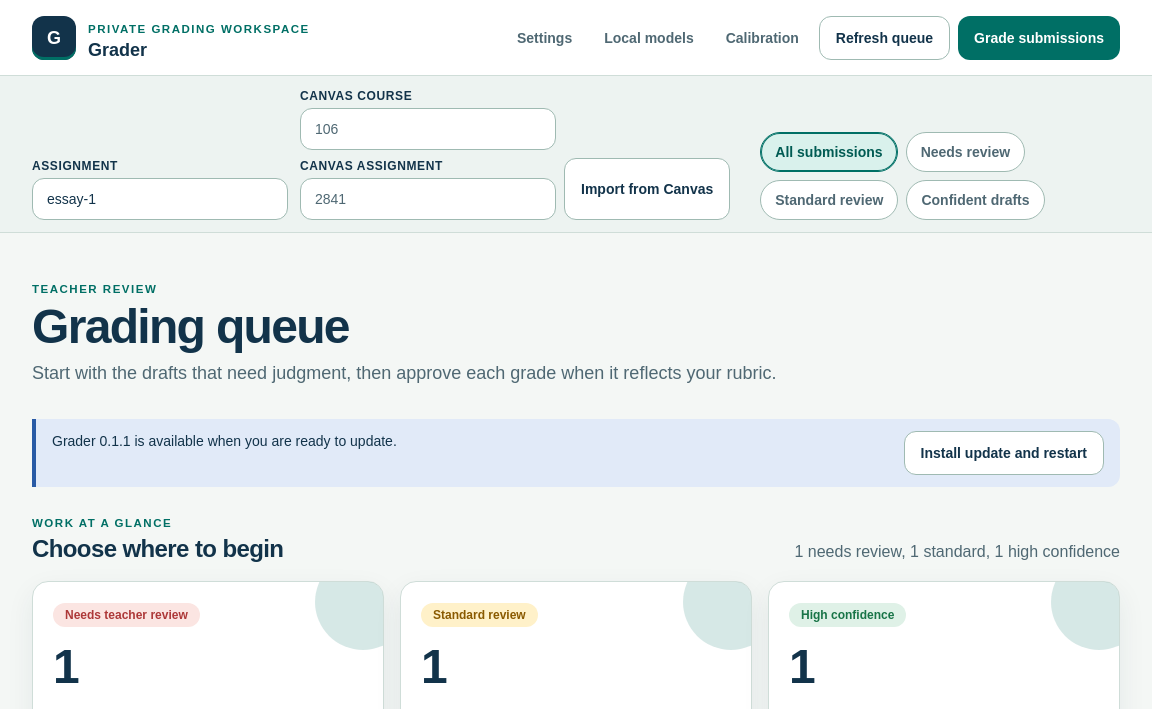
Test: QueueScreen › offers a keyboard reachable install action when the signed updater finds a new version
The image size is (1152, 709).
Click the button "Install update and restart".
click(1004, 453)  # box [904,431,1104,475]
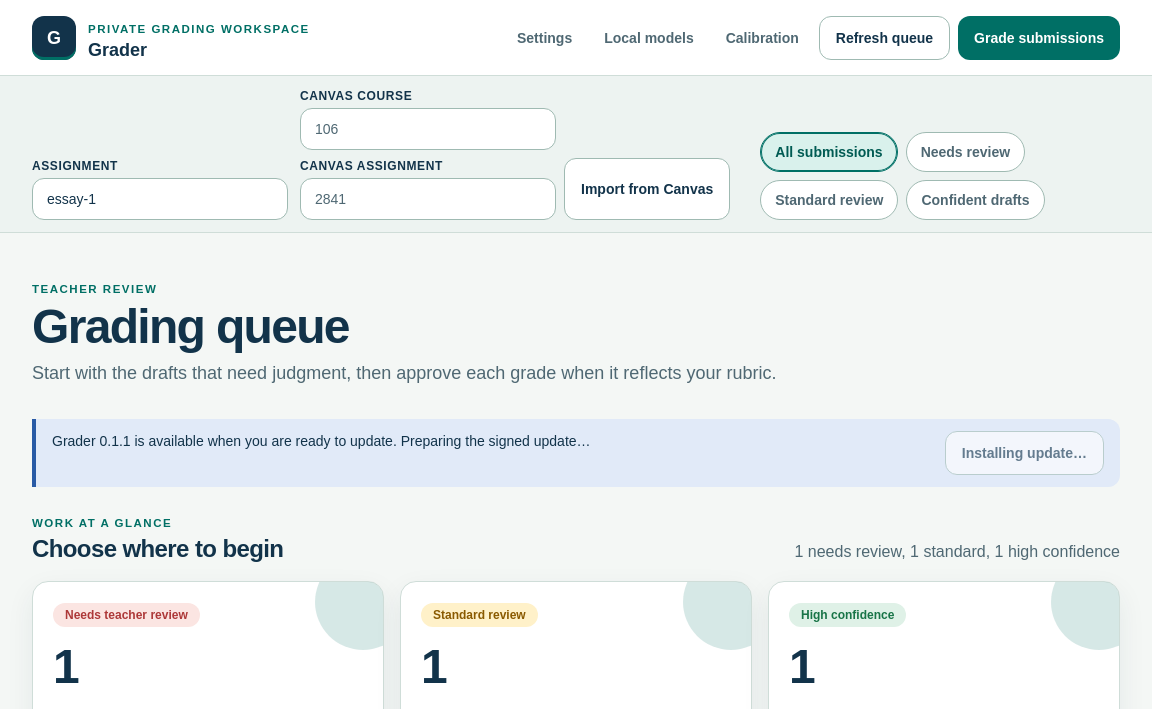
Now the text "Preparing the signed update" is shown, box [401,433,591,449]
